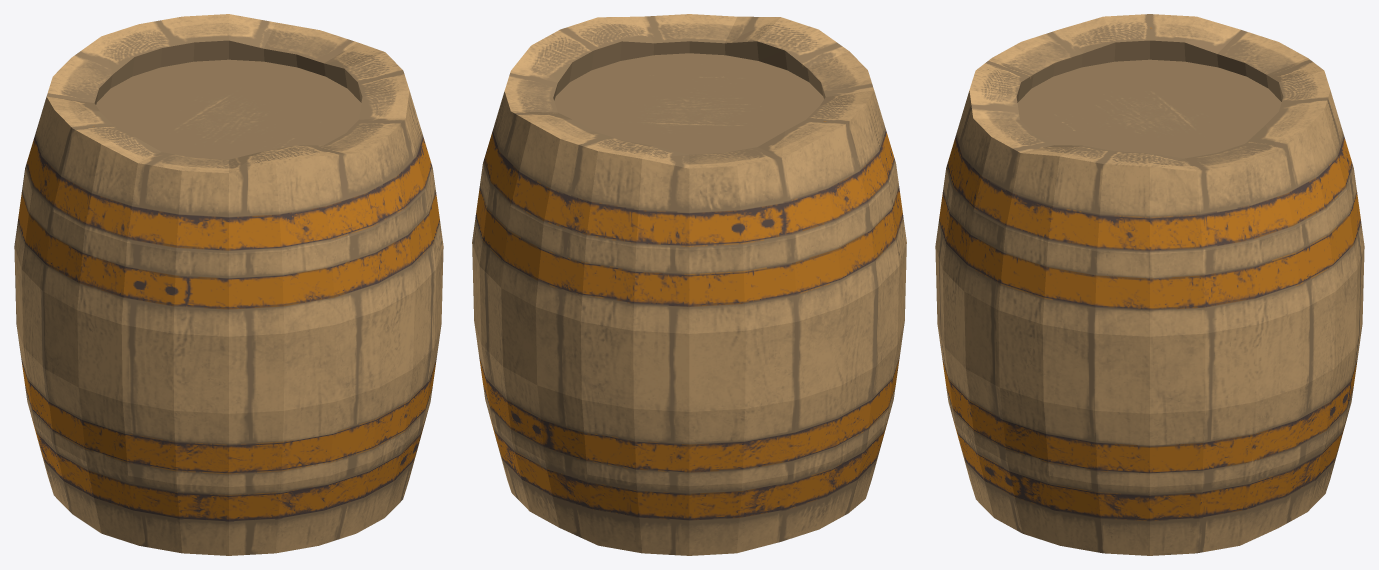
Rendered from BarrelLight.fbx.
3 views of the same model, side by side, from view 1: azimuth 30°, elevation 25°; view 2: azimuth 150°, elevation 25°; view 3: azimuth 270°, elevation 25° (orthographic).
Visible parts, largest first — view 1: Barrel_Light; view 2: Barrel_Light; view 3: Barrel_Light.
Part boxes in pixels (bbox=[...]): Barrel_Light: bbox=[14, 14, 443, 555]; Barrel_Light: bbox=[472, 14, 906, 555]; Barrel_Light: bbox=[935, 14, 1364, 555].
Size of the model in its own units: 99.63 by 99.82 by 99.63.
